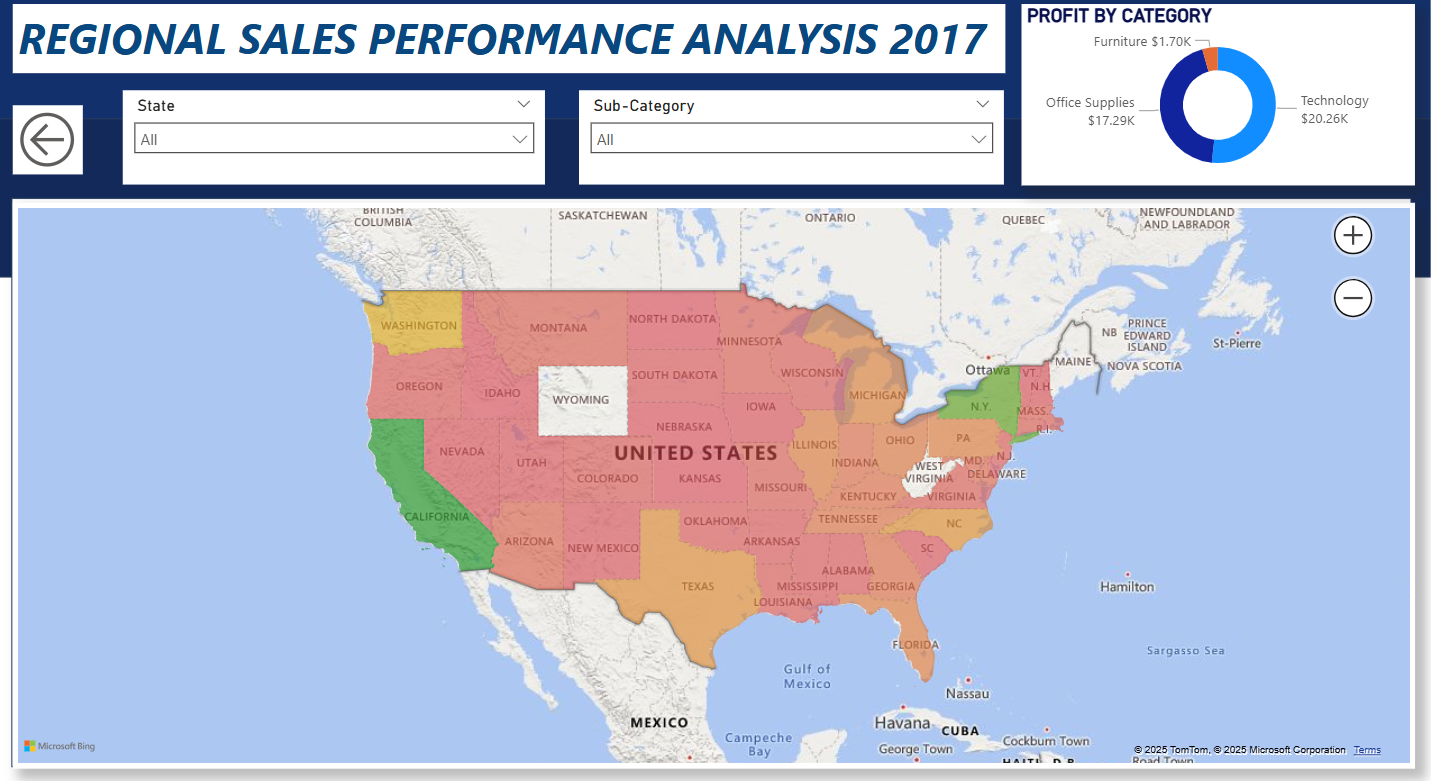

This screenshot's page, from the dashboard's own definition file:
{"tool":"powerbi","page":{"name":"REGIONAL ANALYSIS","canvas":[1280,720],"ordinal":3},"visuals":[{"type":"filledMap","fields":{"Category":["dataset.State"]},"box":[16.2,186.2,1248.8,503.8],"z":0},{"type":"donutChart","title":"PROFIT BY CATEGORY","fields":{"Category":["dataset.Category"],"Y":["Sum(dataset.Profit)"]},"box":[915,8.8,350,161.2],"z":1000},{"type":"textbox","box":[16.2,8.8,883.8,61.2],"z":2000},{"type":"slicer","fields":{"Values":["dataset.Sub-Category"]},"box":[521.2,86.2,378.8,83.8],"z":3000},{"type":"slicer","fields":{"Values":["dataset.State"]},"box":[115,86.2,376.2,83.8],"z":4000},{"type":"actionButton","box":[16.2,98.8,62.5,61.2],"z":5000}]}

Visuals, with their boxes in screenshot pixels (x1, y1, x2, y2):
filledMap - dataset.State: {"x1": 22, "y1": 196, "x2": 1409, "y2": 756}
"PROFIT BY CATEGORY" donutChart: {"x1": 1021, "y1": 0, "x2": 1409, "y2": 178}
textbox: {"x1": 22, "y1": 0, "x2": 1004, "y2": 67}
slicer - dataset.Sub-Category: {"x1": 583, "y1": 85, "x2": 1004, "y2": 178}
slicer - dataset.State: {"x1": 132, "y1": 85, "x2": 550, "y2": 178}
actionButton: {"x1": 22, "y1": 99, "x2": 91, "y2": 167}
